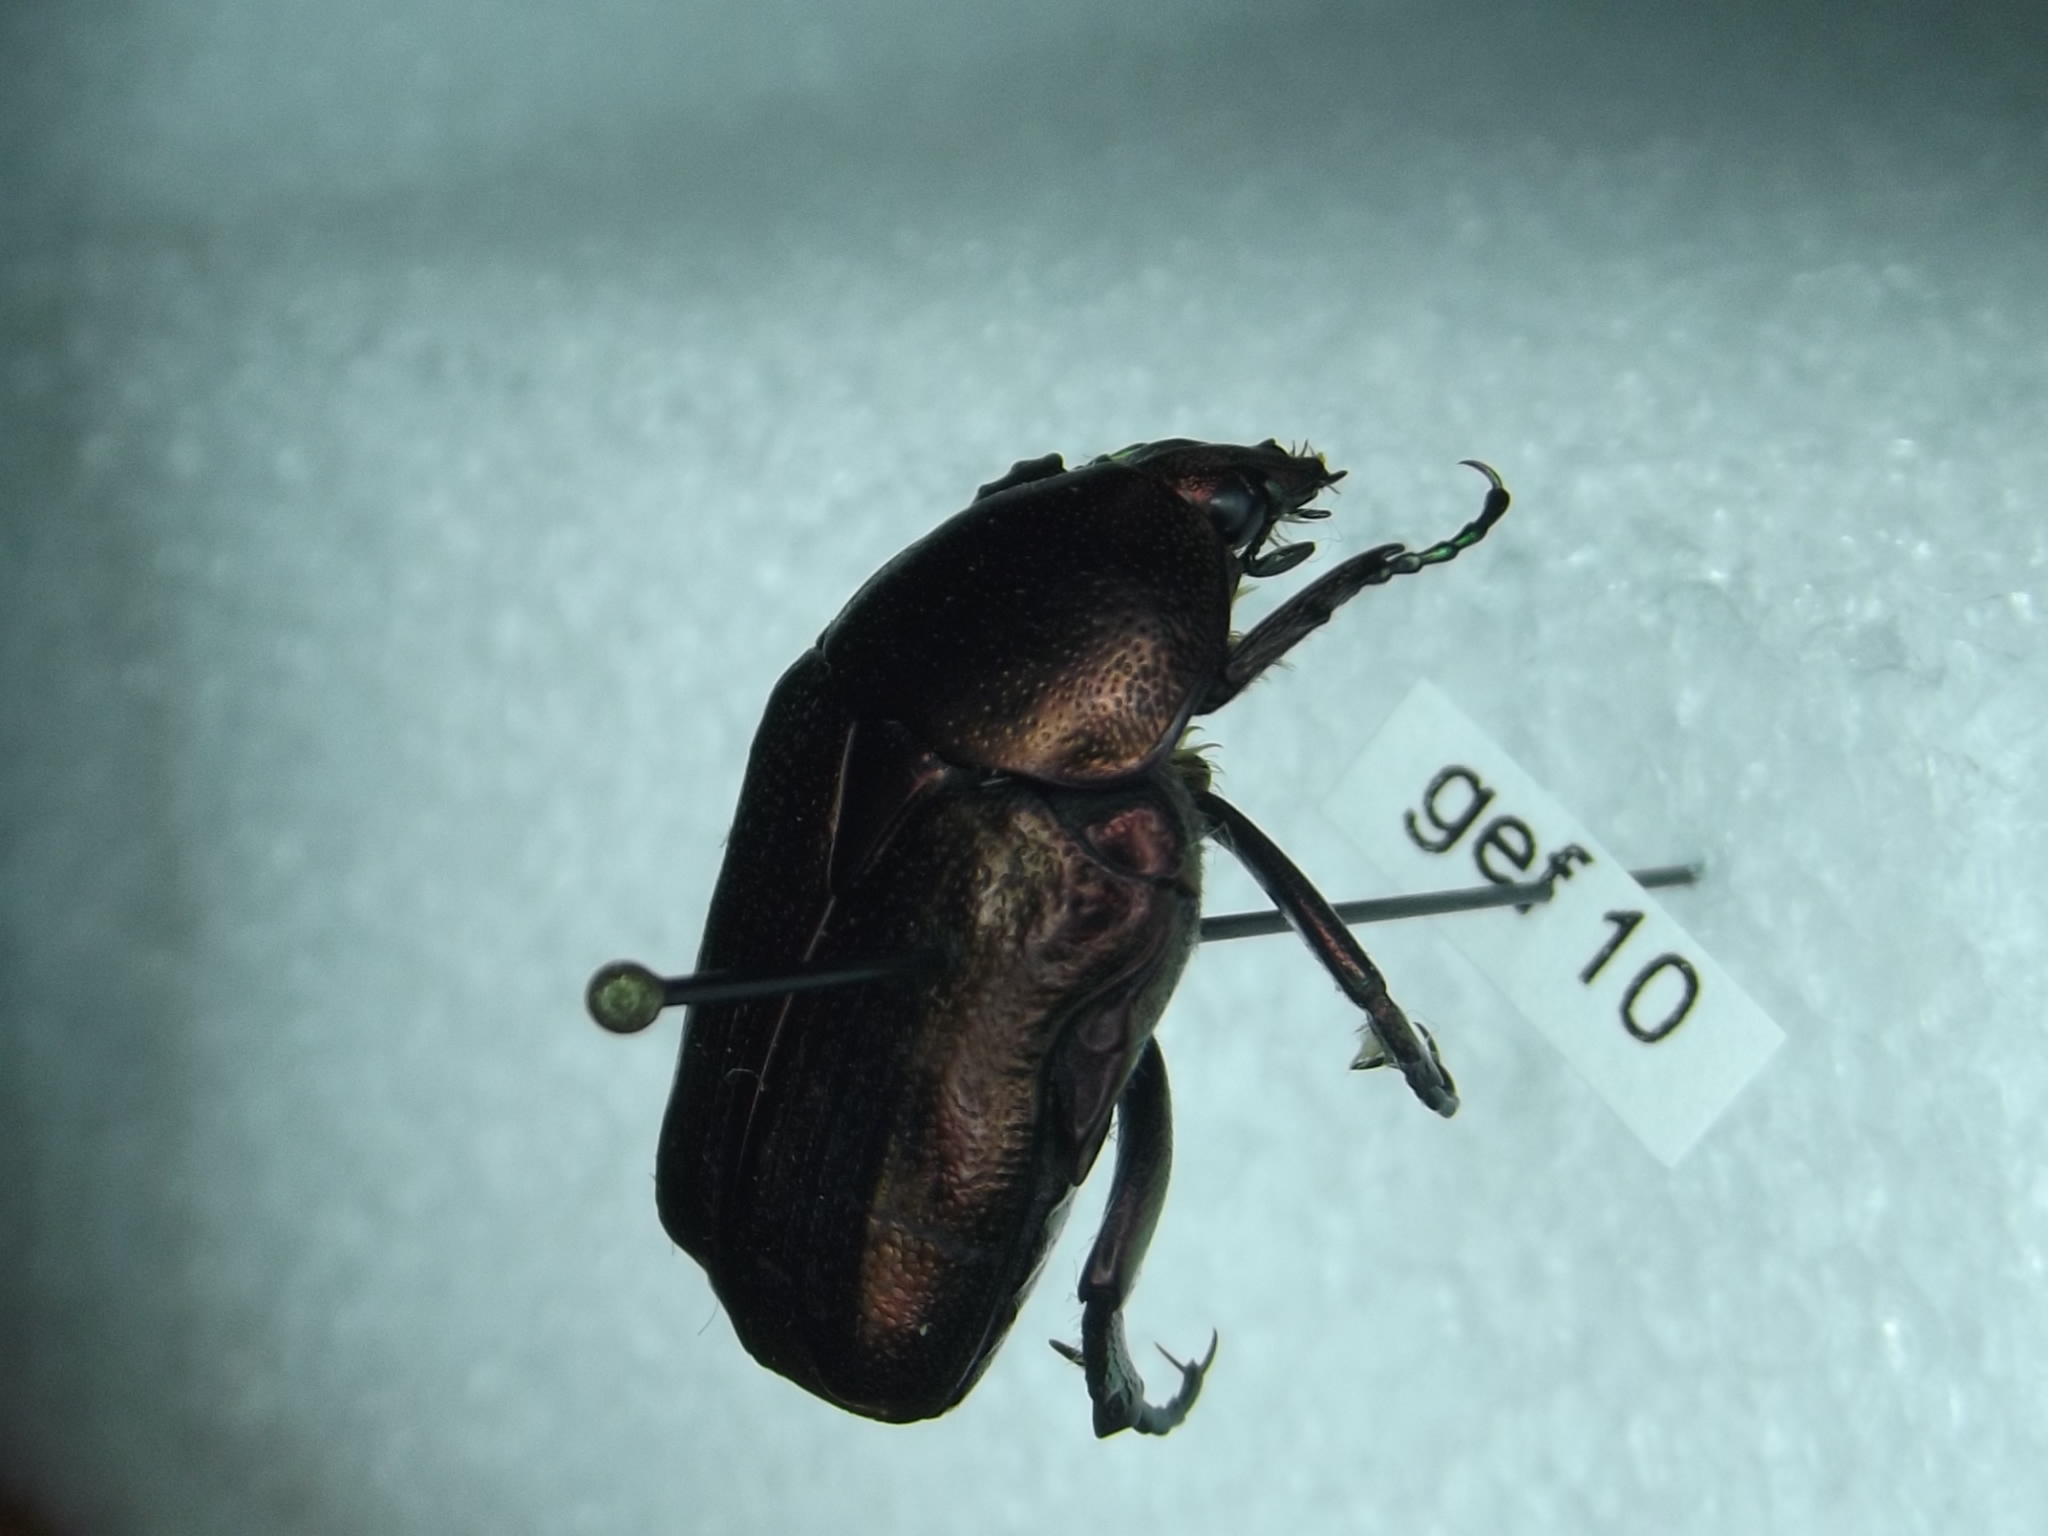Cetonia_aurata: (650, 402, 1514, 1470)
